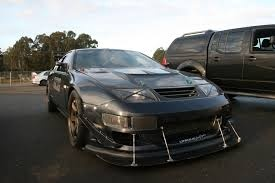Smashed: (86, 106, 126, 154)
